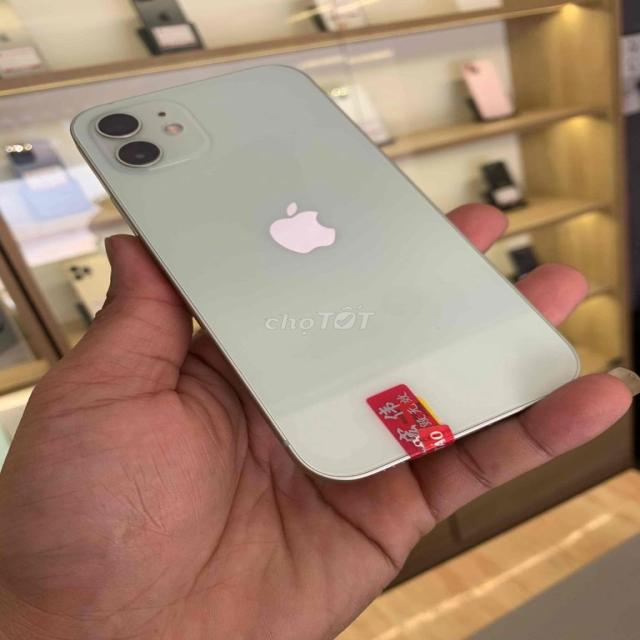gen_15: (73, 61, 578, 482)
